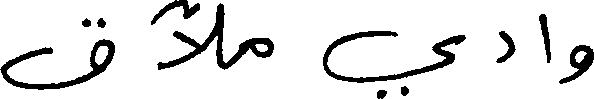ا: (537, 11, 552, 63)
د: (496, 29, 515, 63)
ق: (0, 15, 115, 90)
لا: (156, 0, 223, 71)
م: (249, 36, 272, 58)
و: (556, 43, 591, 84)
ي: (322, 28, 465, 97)
